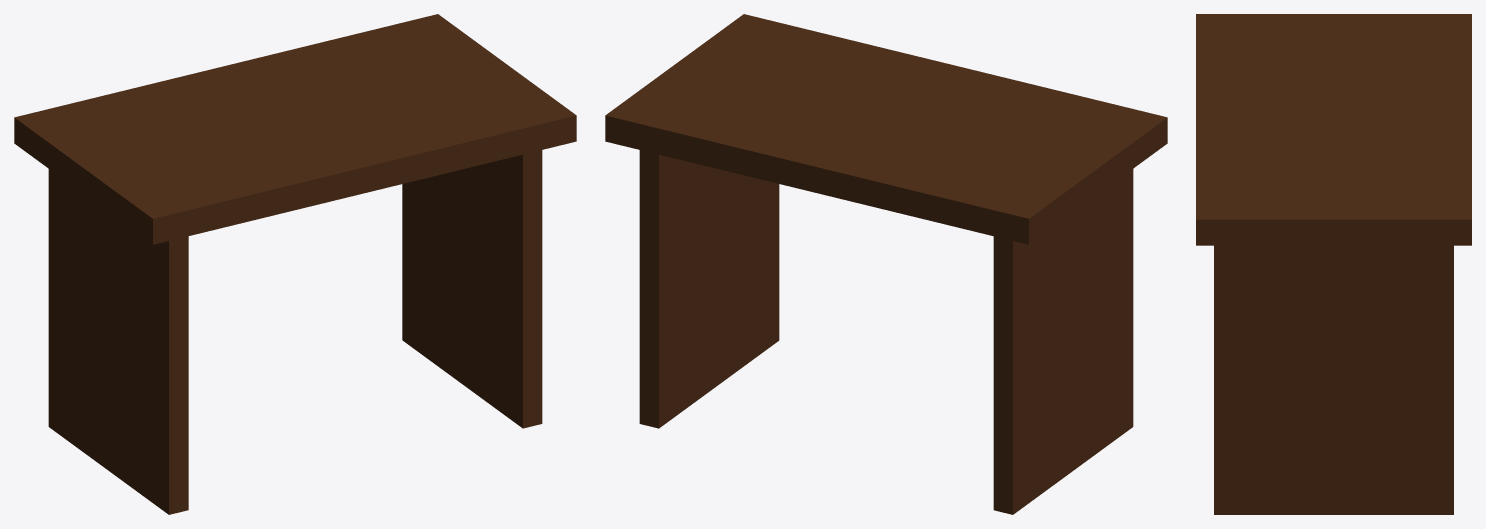
The model's file is table.glb.
3 renders of one model, left to right at view 1: azimuth 30°, elevation 25°; view 2: azimuth 150°, elevation 25°; view 3: azimuth 270°, elevation 25°, orthographic.
Visible parts, largest first — view 1: Cube.026; view 2: Cube.026; view 3: Cube.026.
Part boxes in pixels (left/top/right/bottom): Cube.026: left=14, top=14, right=576, bottom=514; Cube.026: left=605, top=14, right=1167, bottom=514; Cube.026: left=1196, top=14, right=1471, bottom=514.
Bounding box in the file's own units: 0.6667 × 0.4643 × 0.3778.
